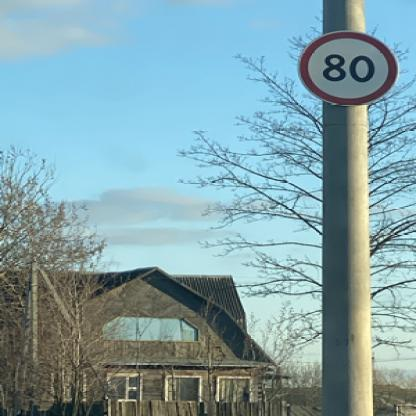speedlimit: (296, 29, 396, 104)
